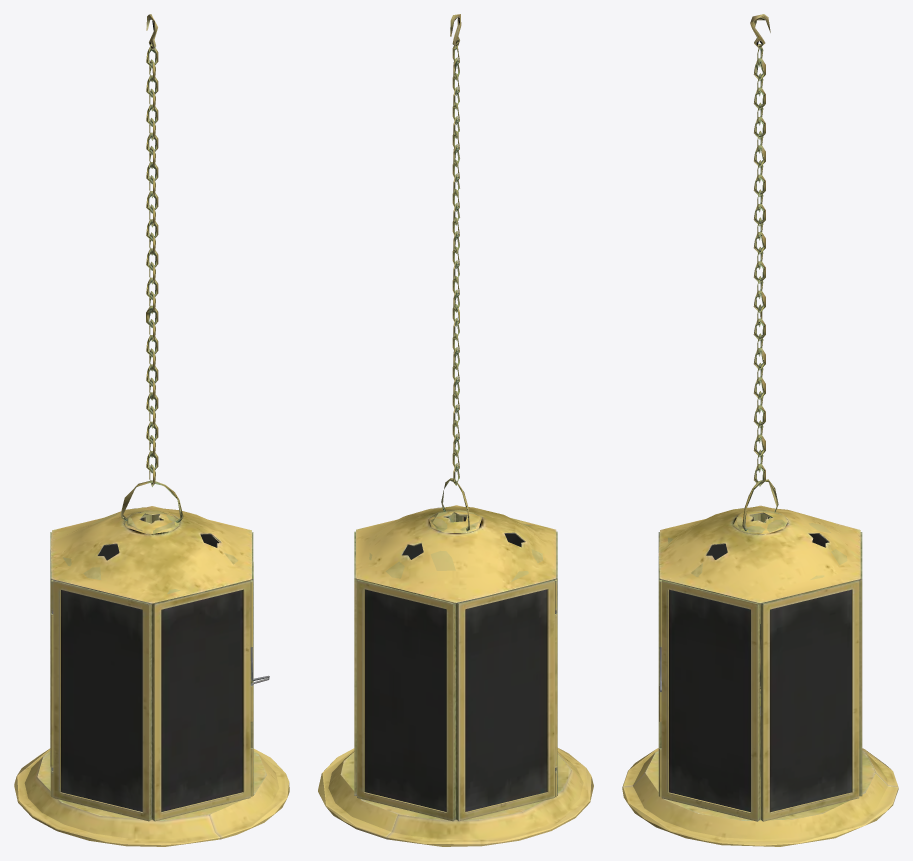
Rendered from brass_diya_lantern.glb.
The picture shows the model from 3 angles, left to right: view 1: azimuth 30°, elevation 25°; view 2: azimuth 150°, elevation 25°; view 3: azimuth 270°, elevation 25°; orthographic projection.
Visible parts, largest first — view 1: brass_diya_lantern, brass_diya_lantern_connection; view 2: brass_diya_lantern, brass_diya_lantern_connection; view 3: brass_diya_lantern, brass_diya_lantern_connection.
Boxes of the visible parts, x1,y1,x2,y2 form: brass_diya_lantern: (14,506,289,846); brass_diya_lantern_connection: (120,14,183,522); brass_diya_lantern: (318,505,593,846); brass_diya_lantern_connection: (441,14,469,530); brass_diya_lantern: (622,505,898,846); brass_diya_lantern_connection: (742,14,778,530).
Bounding box in the file's own units: 0.123 × 0.3806 × 0.123.
Materials: 3 (3 with a texture image).
